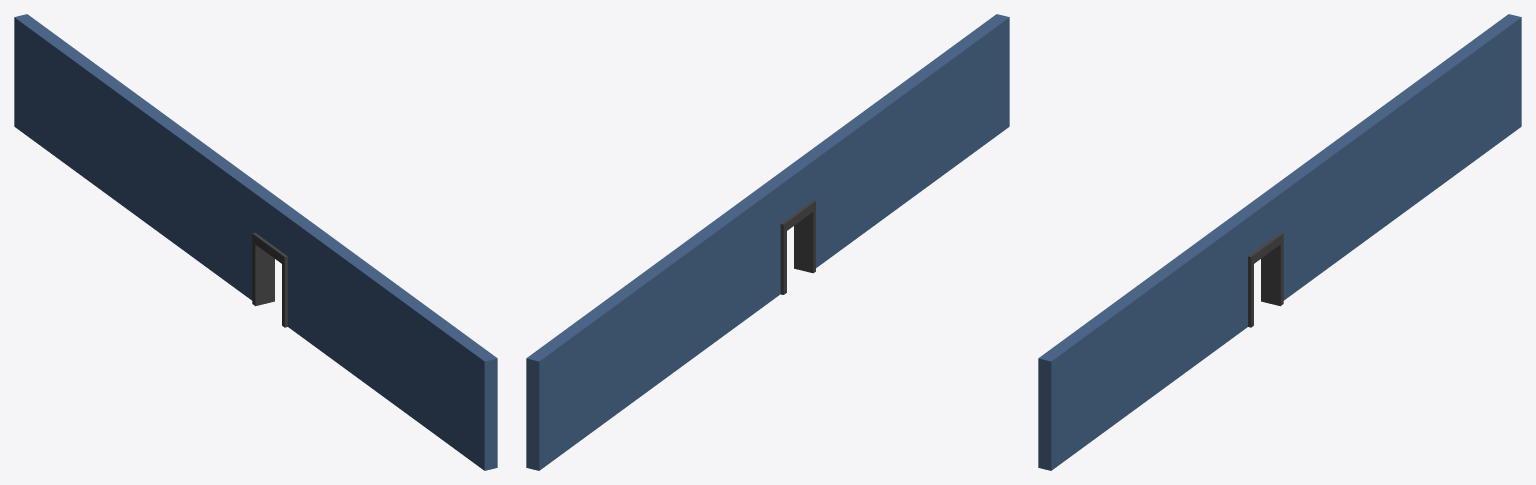
File: Structure_Wall_TopFloorLeft_fbx_v01.fbx
3 views of the same model, side by side, from view 1: azimuth 30°, elevation 25°; view 2: azimuth 150°, elevation 25°; view 3: azimuth 330°, elevation 25° (orthographic).
Visible parts, largest first — view 1: Wall_TopFloor_Left1; view 2: Wall_TopFloor_Left1; view 3: Wall_TopFloor_Left1.
Part boxes in pixels (x1,y1,x2,y2): Wall_TopFloor_Left1: (14,14,497,470); Wall_TopFloor_Left1: (526,14,1009,470); Wall_TopFloor_Left1: (1038,14,1521,470).
Size of the model in its own units: 149 by 802 by 6250.
